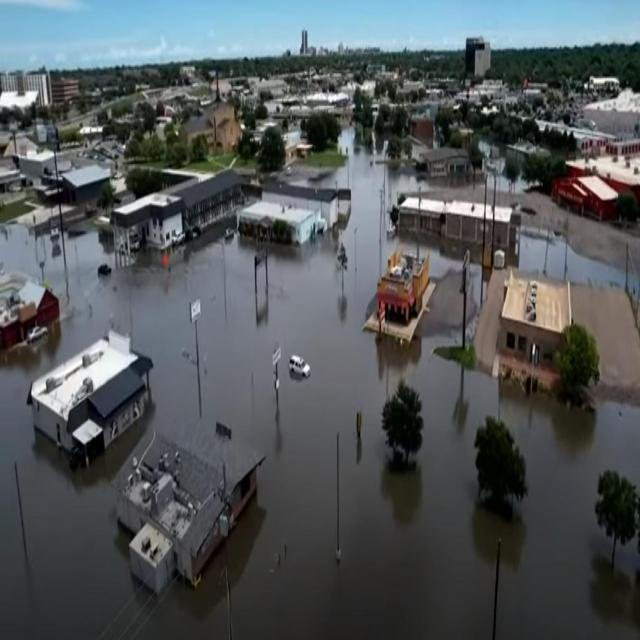flood: (0, 147, 640, 640), (387, 137, 528, 203), (339, 121, 412, 157), (568, 244, 625, 287), (520, 230, 567, 281)
house: (116, 420, 268, 596), (28, 332, 154, 476), (106, 170, 246, 268), (398, 191, 520, 268), (367, 248, 433, 349), (500, 271, 574, 357), (236, 198, 318, 251), (553, 172, 621, 227), (259, 185, 339, 231), (16, 265, 62, 337), (0, 69, 51, 129), (59, 164, 110, 214), (465, 35, 493, 88), (215, 98, 239, 152), (182, 115, 213, 154), (572, 131, 608, 157), (612, 138, 640, 159), (299, 27, 309, 60)
